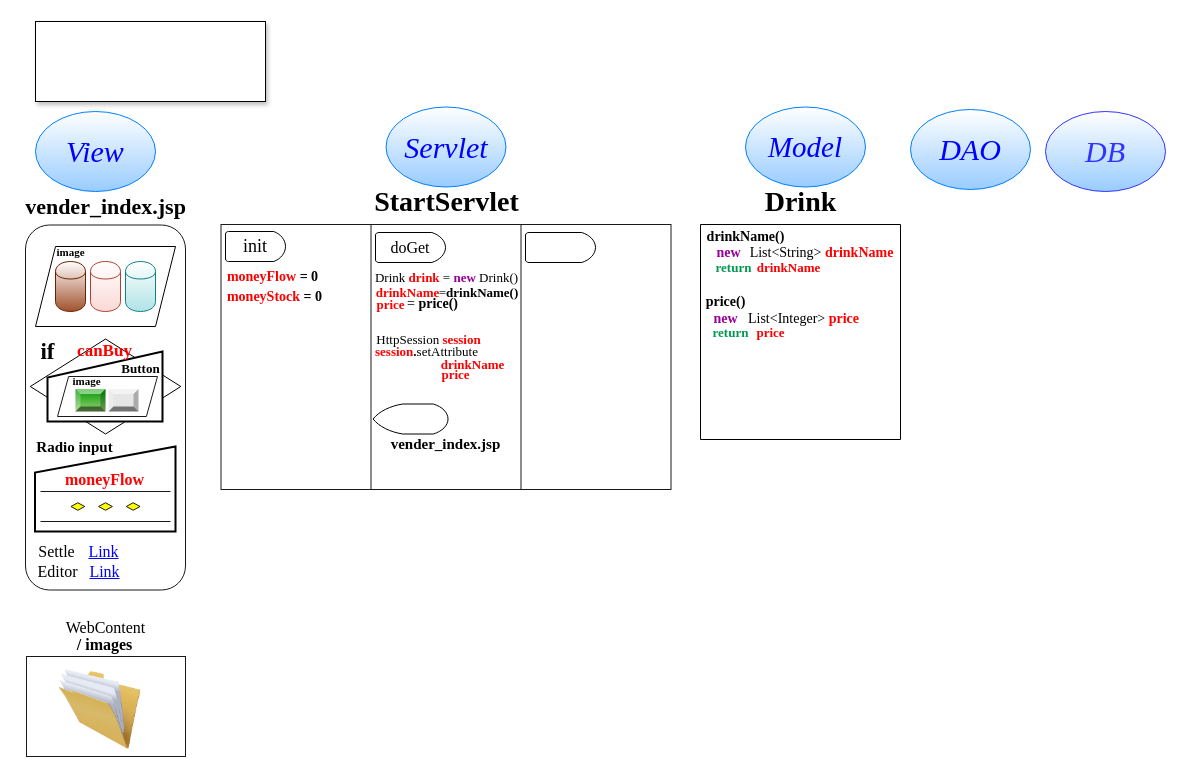
Image size: 1183x774. Some labels were removed from this diagram. Here are the shapes that lost their labels. From the top down, the centre of each, then its label:
At (x=151, y=62): "venderMachine Start & Money Functions".
At (x=560, y=247): "doPost".
At (x=410, y=418): "forward".
